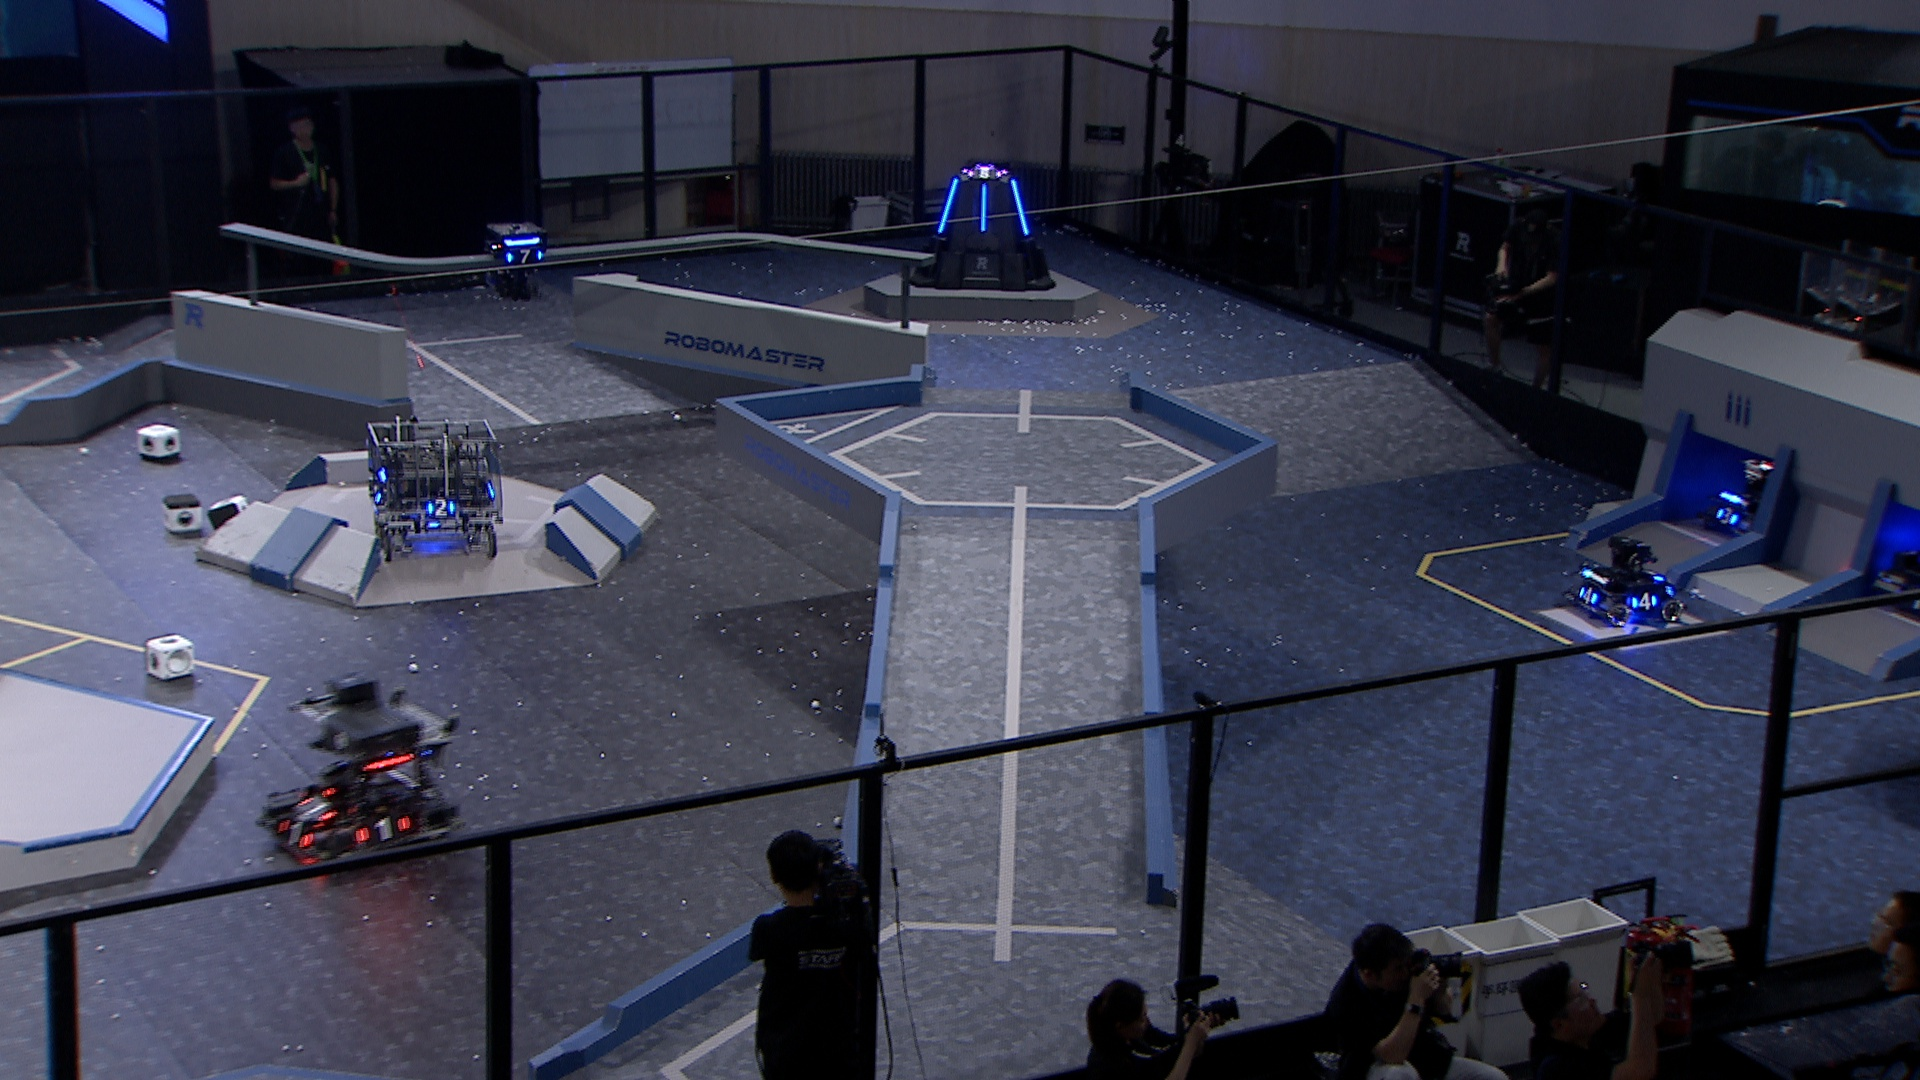armor: (352, 815, 417, 847), (294, 787, 338, 827), (934, 174, 964, 229), (276, 815, 319, 853), (1007, 179, 1034, 235), (975, 185, 993, 233), (505, 245, 546, 266), (425, 496, 460, 520), (1627, 589, 1662, 613), (1712, 504, 1741, 529), (1575, 582, 1604, 605), (367, 477, 389, 504)
base: (905, 161, 1055, 291)
car: (262, 687, 460, 880), (363, 413, 506, 562), (1557, 531, 1688, 632), (1702, 451, 1811, 541), (1876, 505, 1920, 622)
ignore: (965, 164, 1002, 182)
watcher: (485, 219, 549, 309)
